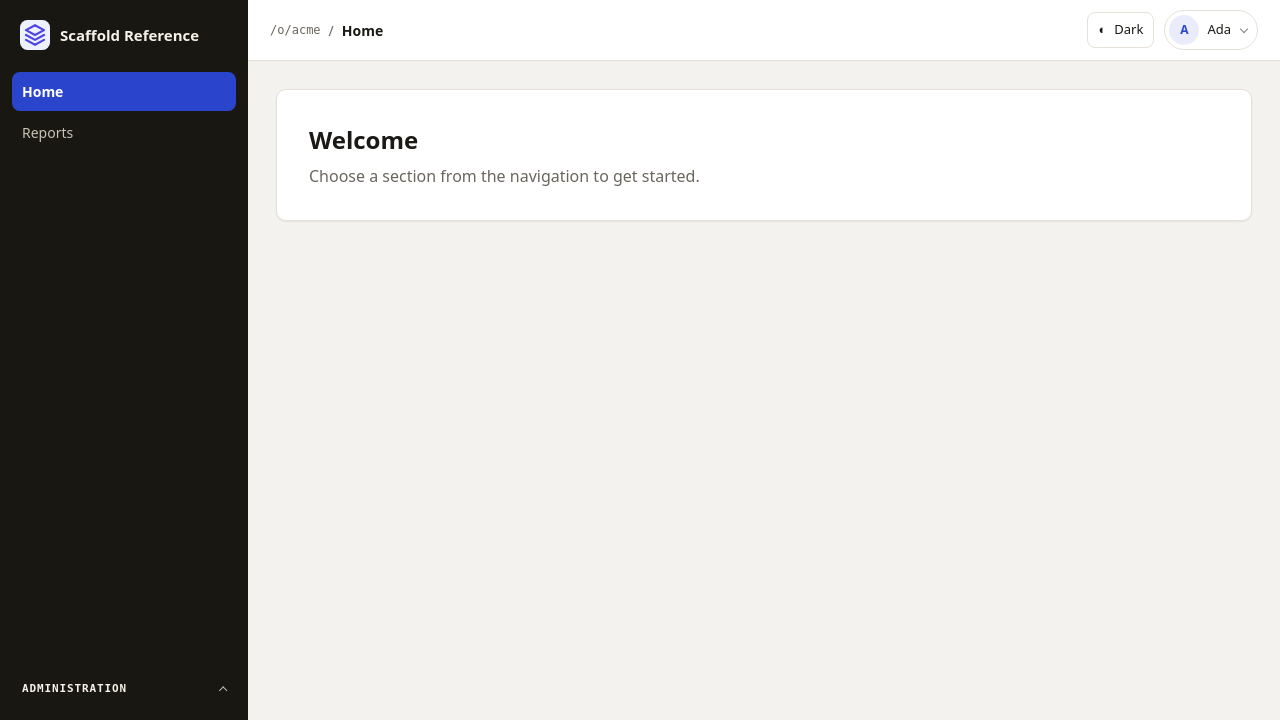
Scenario: org shell navigation › opens and closes the Administration menu on toggle
Expected: the link "Members" is not shown
Click the button "Administration" at (124, 689), box [12,672,236,706]
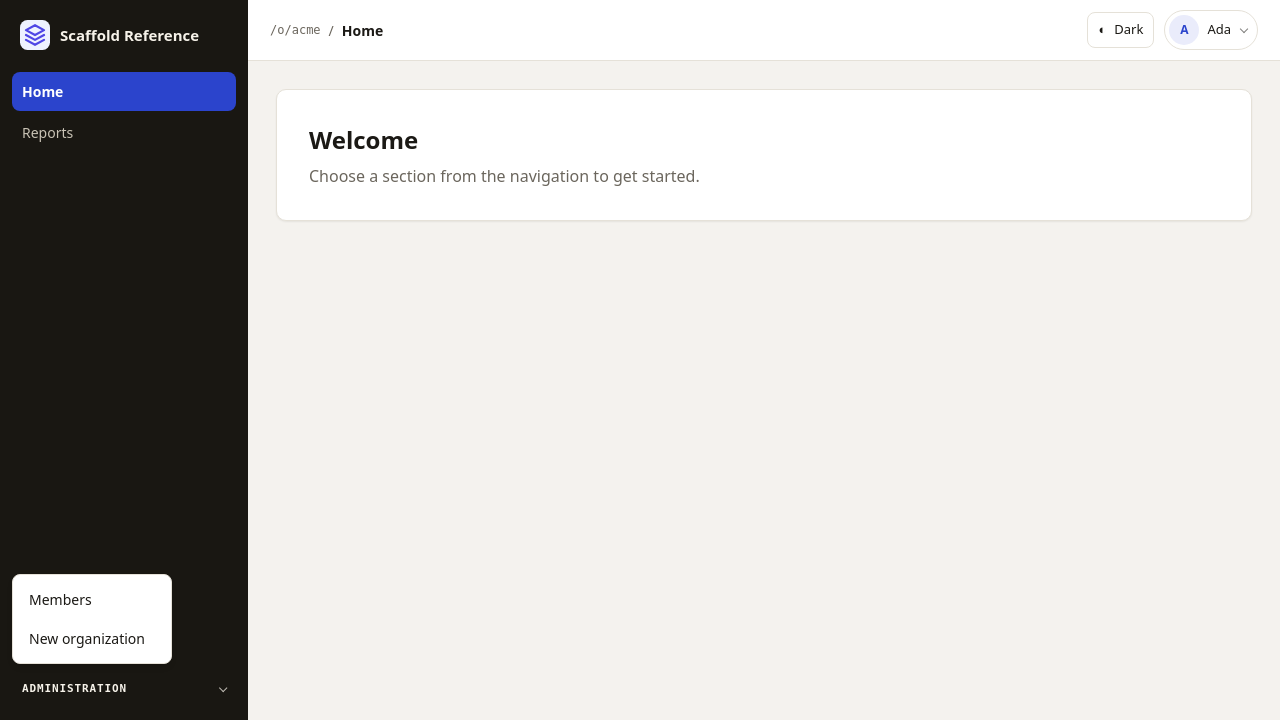
Expected: the link "Members" is shown, [29,590,92,609]
Press Escape
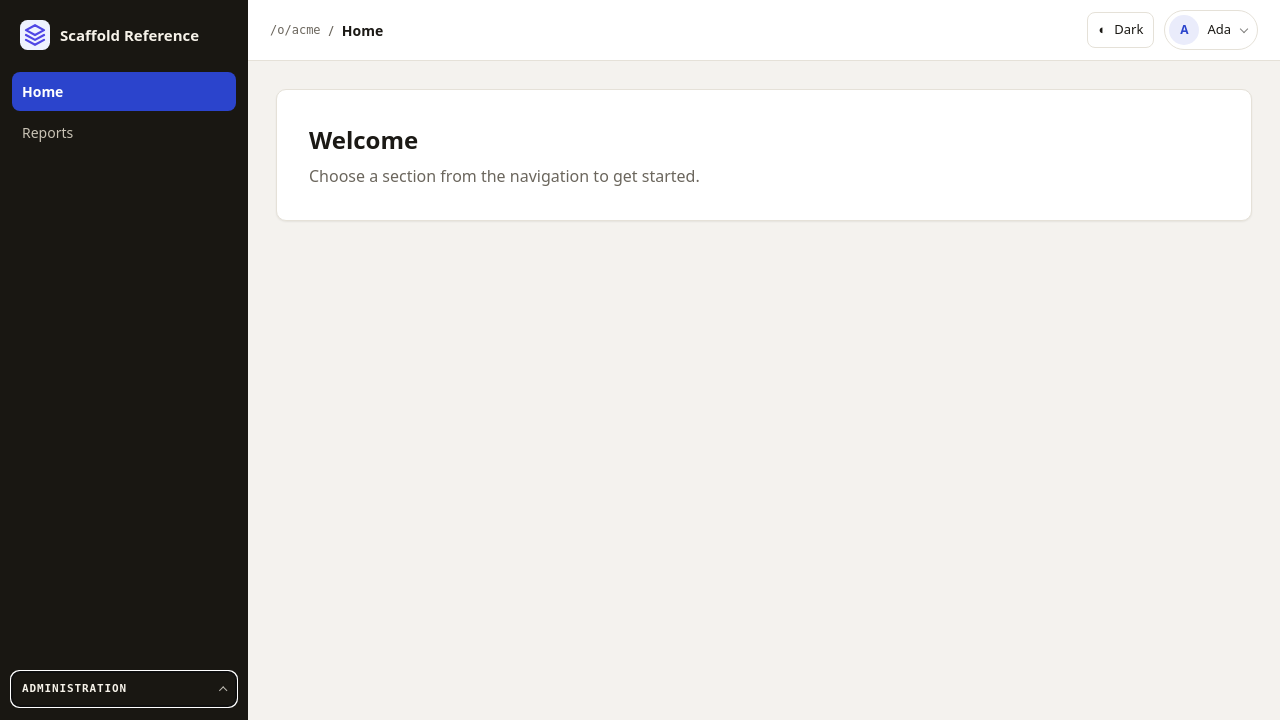
Expected: the link "Members" is gone
